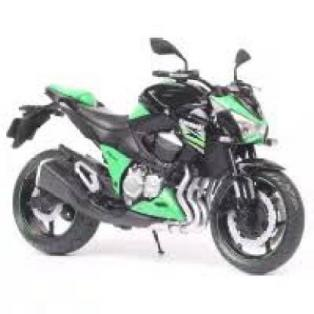Motocicleta: (7, 27, 308, 274)
